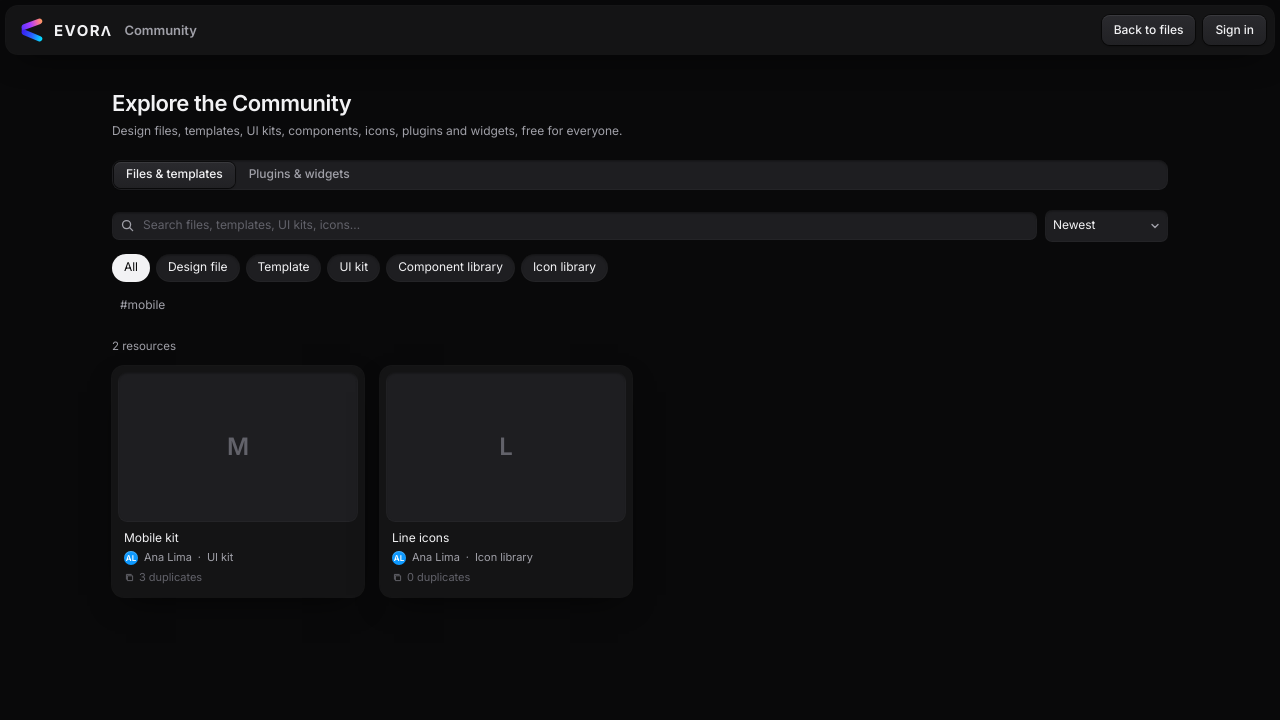
Test case: the Community page › searches, filters by type and tag, and sorts, asking the server each time
This screenshot has width=1280, height=720.
Later steps or results of the test are not shown.
Expected: the list named "Resources" is shown, left=112, top=366, right=632, bottom=597
In the field named "Search the Community": x=585, y=226 left=143, top=217, right=1027, bottom=234, type "line"
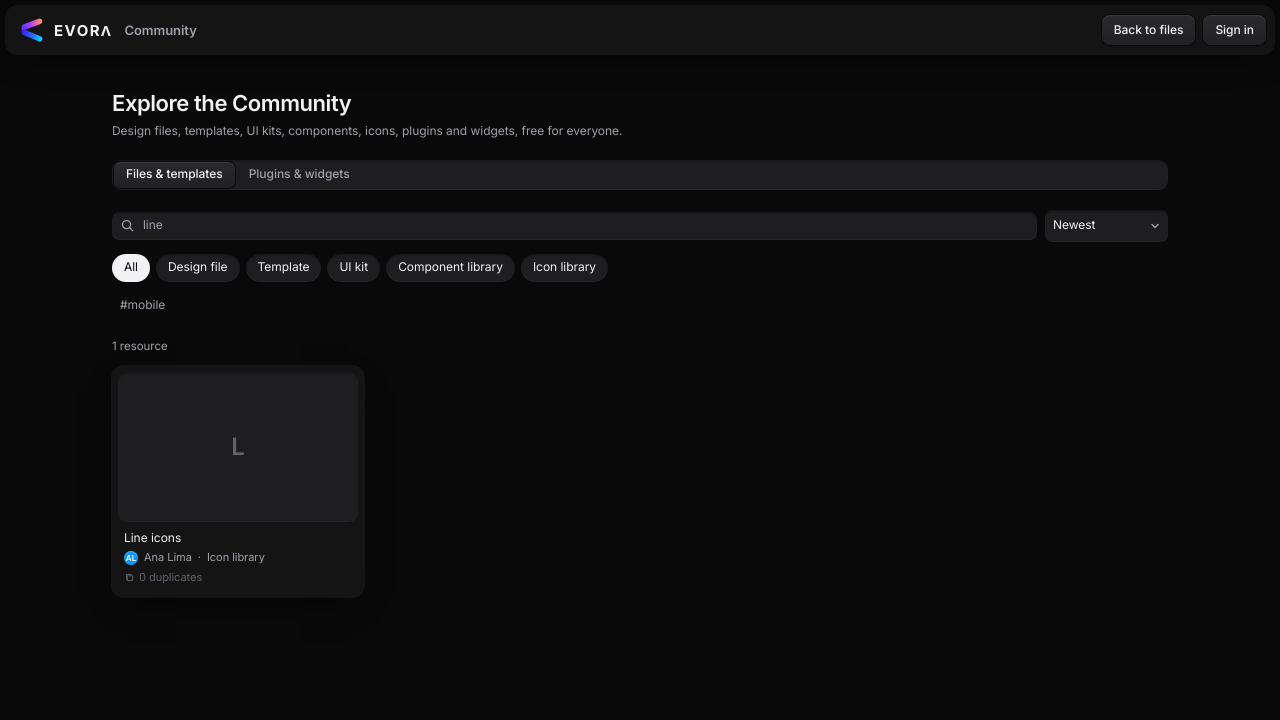
Clear the field named "Search the Community": x=585, y=226 left=143, top=217, right=1027, bottom=234
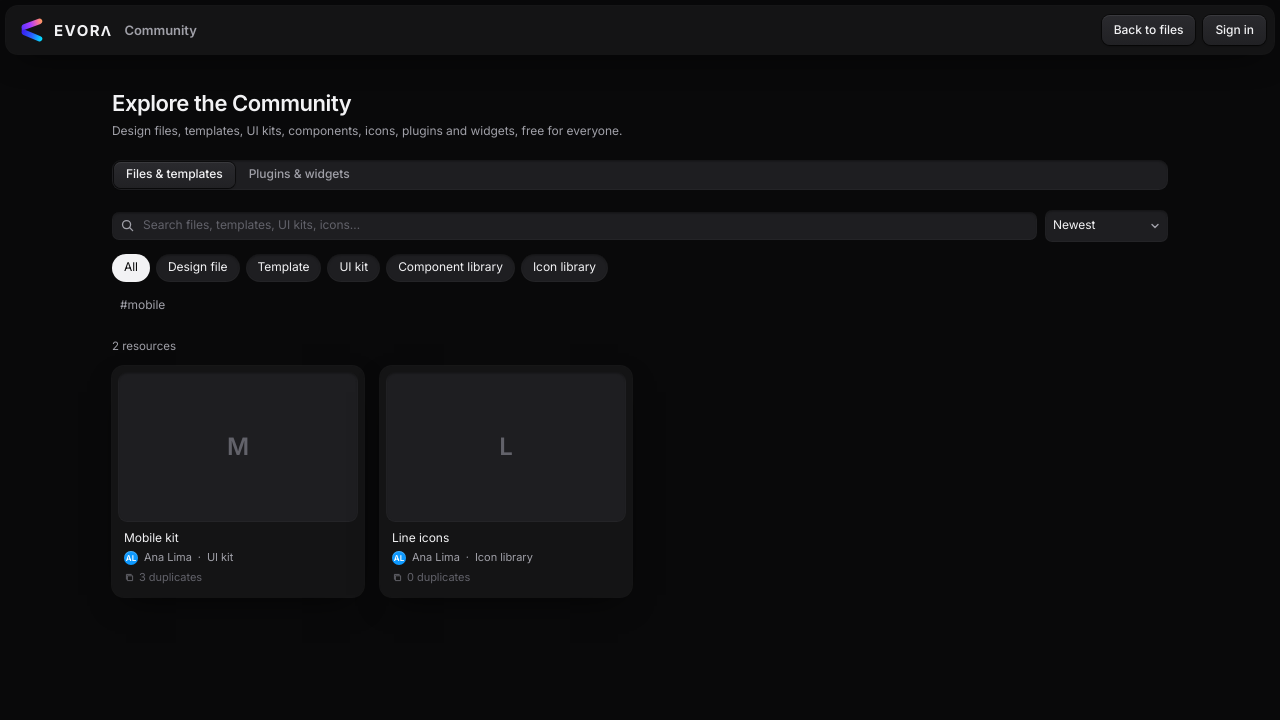
Result: the button with aria-label "Open Mobile kit" is shown at left=124, top=530, right=352, bottom=546
